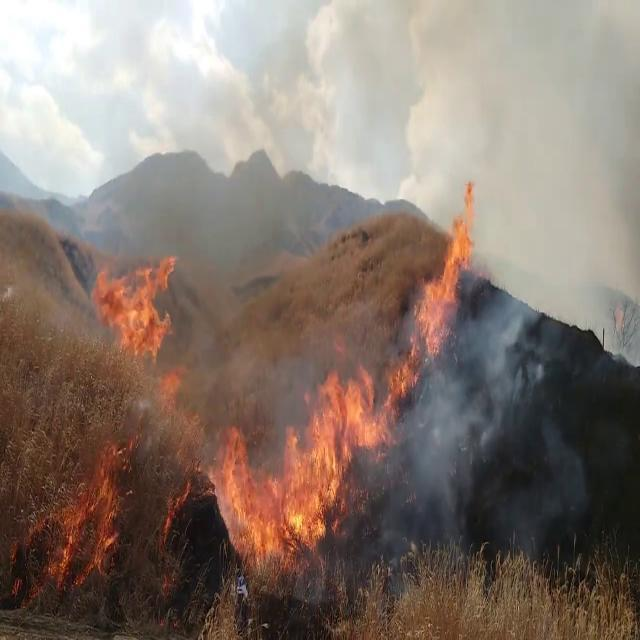Fire: (195, 352, 393, 572), (408, 178, 476, 370), (52, 437, 128, 584), (91, 242, 181, 361)
Smoke: (383, 289, 587, 576)
